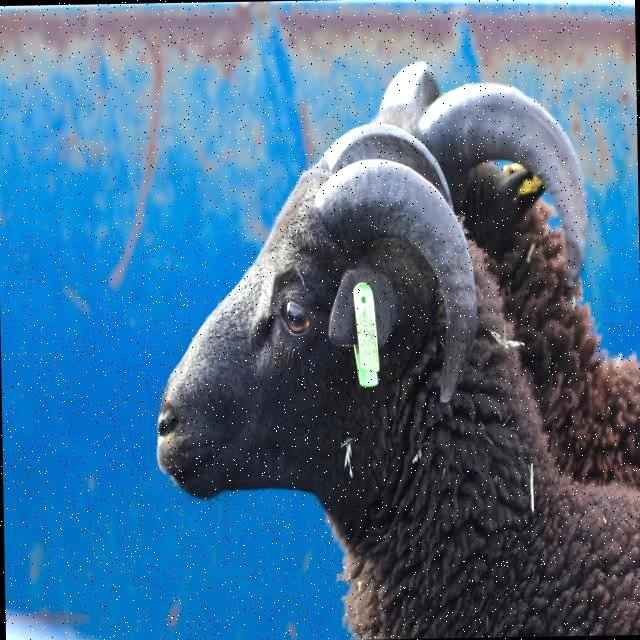sheep: (372, 62, 640, 487)
